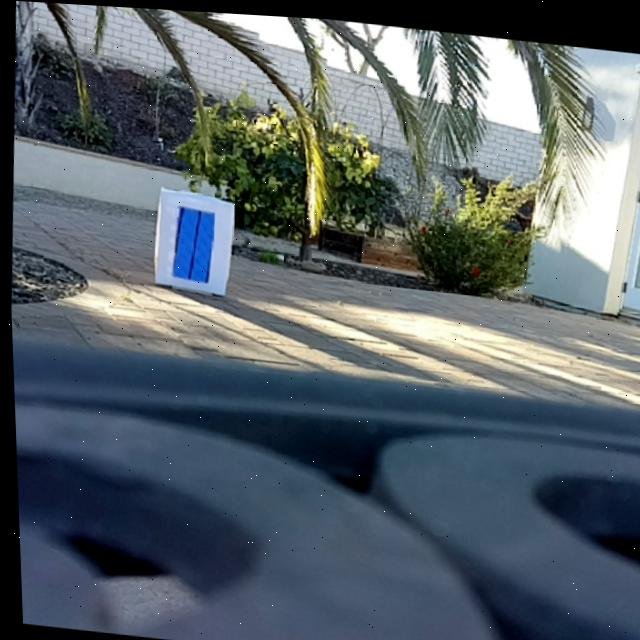led: (171, 203, 214, 282)
